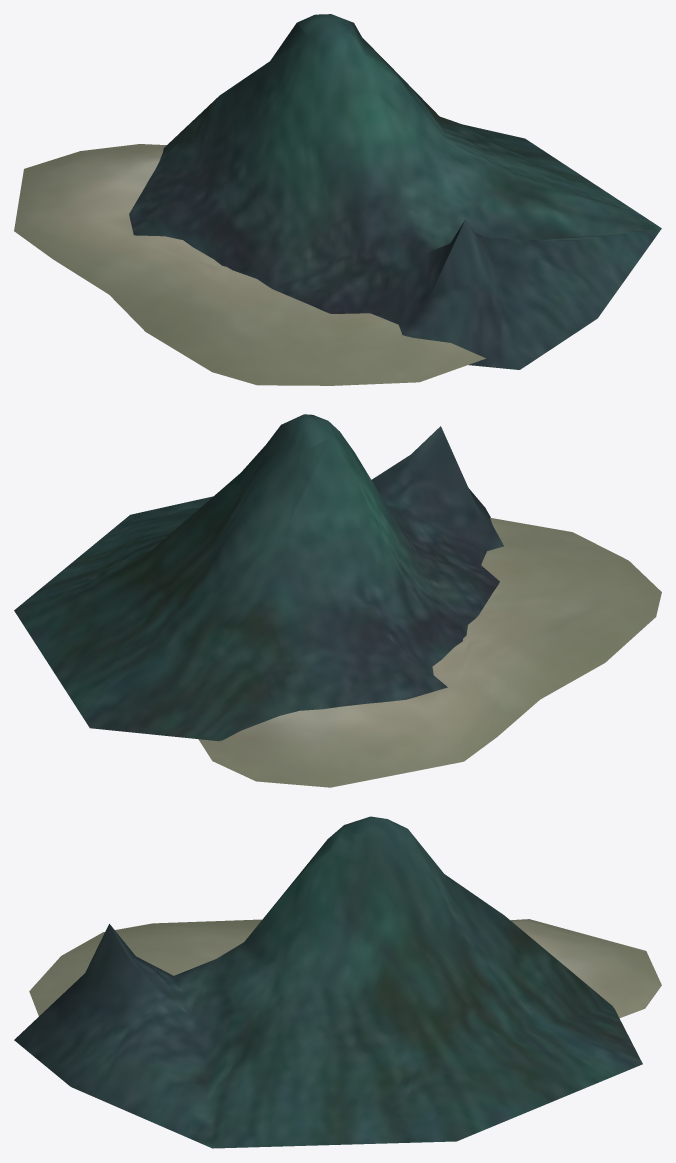
The model's file is pir_m_are_isl_coldwater.fbx.
The picture shows the model from 3 angles, top to bottom: view 1: azimuth 30°, elevation 25°; view 2: azimuth 150°, elevation 25°; view 3: azimuth 270°, elevation 25°; orthographic projection. The views are drawn at different scales.
Visible parts, largest first — view 1: island_terrain, island_base; view 2: island_terrain, island_base; view 3: island_terrain, island_base.
Boxes of the visible parts, <box> form: island_terrain: <box>129,14,661,369</box>; island_base: <box>14,144,485,385</box>; island_terrain: <box>14,414,503,741</box>; island_base: <box>198,517,661,787</box>; island_terrain: <box>14,816,642,1148</box>; island_base: <box>29,919,661,1018</box>.
Size of the model in its own units: 262154 by 115352 by 307532.
Materials: 1 (1 with a texture image).
